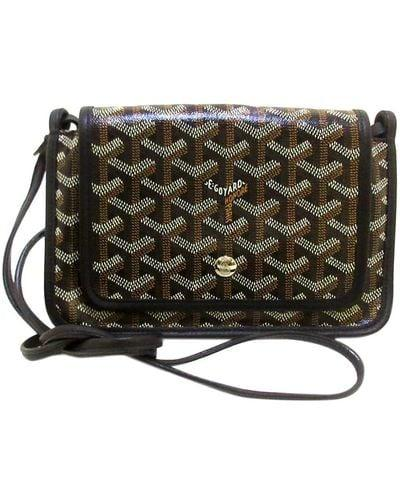GOYARD: (56, 104, 389, 330)
